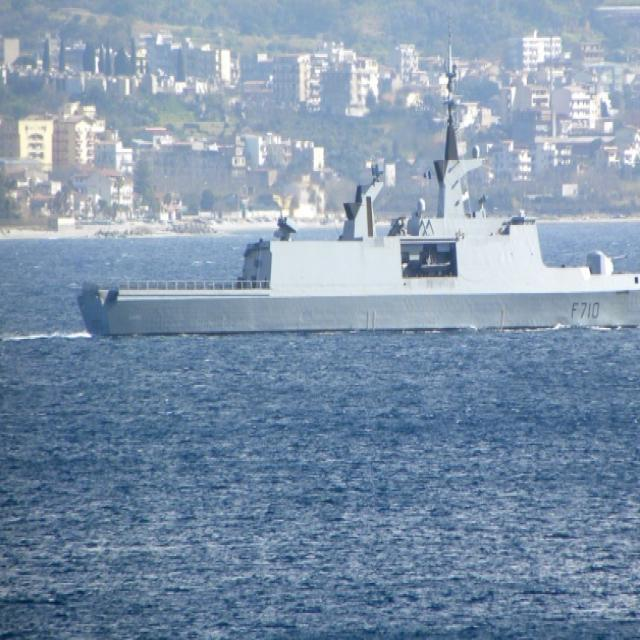Fragata: (68, 56, 640, 345)
